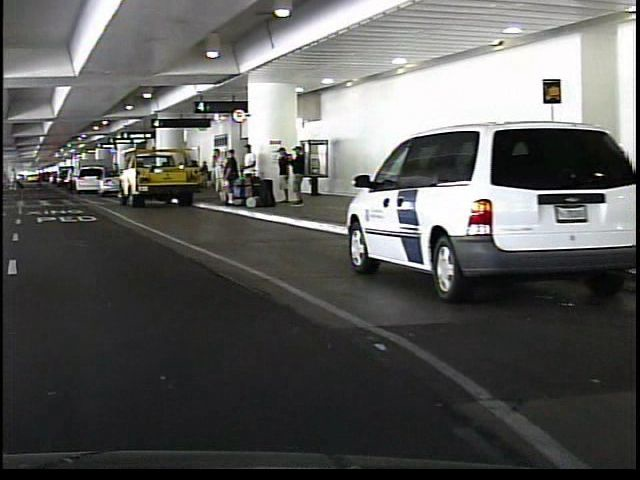person: (206, 142, 225, 204), (287, 143, 304, 207), (61, 164, 74, 195)
